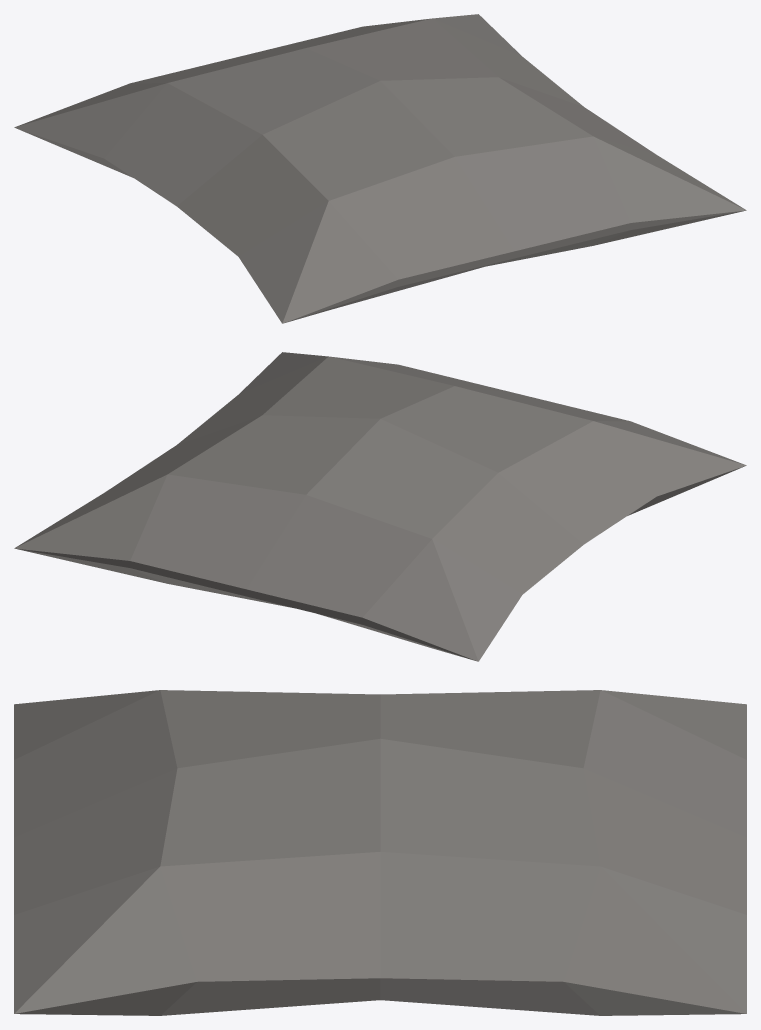
The model's file is Pillow_1A.fbx.
3 renders of one model, top to bottom at view 1: azimuth 30°, elevation 25°; view 2: azimuth 150°, elevation 25°; view 3: azimuth 270°, elevation 25°, orthographic. The views are drawn at different scales.
Parts seen in each view (by area): view 1: pCube910; view 2: pCube910; view 3: pCube910.
Part boxes in pixels (box(x1,y1,x2,y2)): pCube910: box(14, 14, 746, 323); pCube910: box(14, 352, 746, 661); pCube910: box(14, 690, 746, 1015).
Bounding box in the file's own units: 0.5045 × 0.1628 × 0.5045.
1 material, 1 textured.
